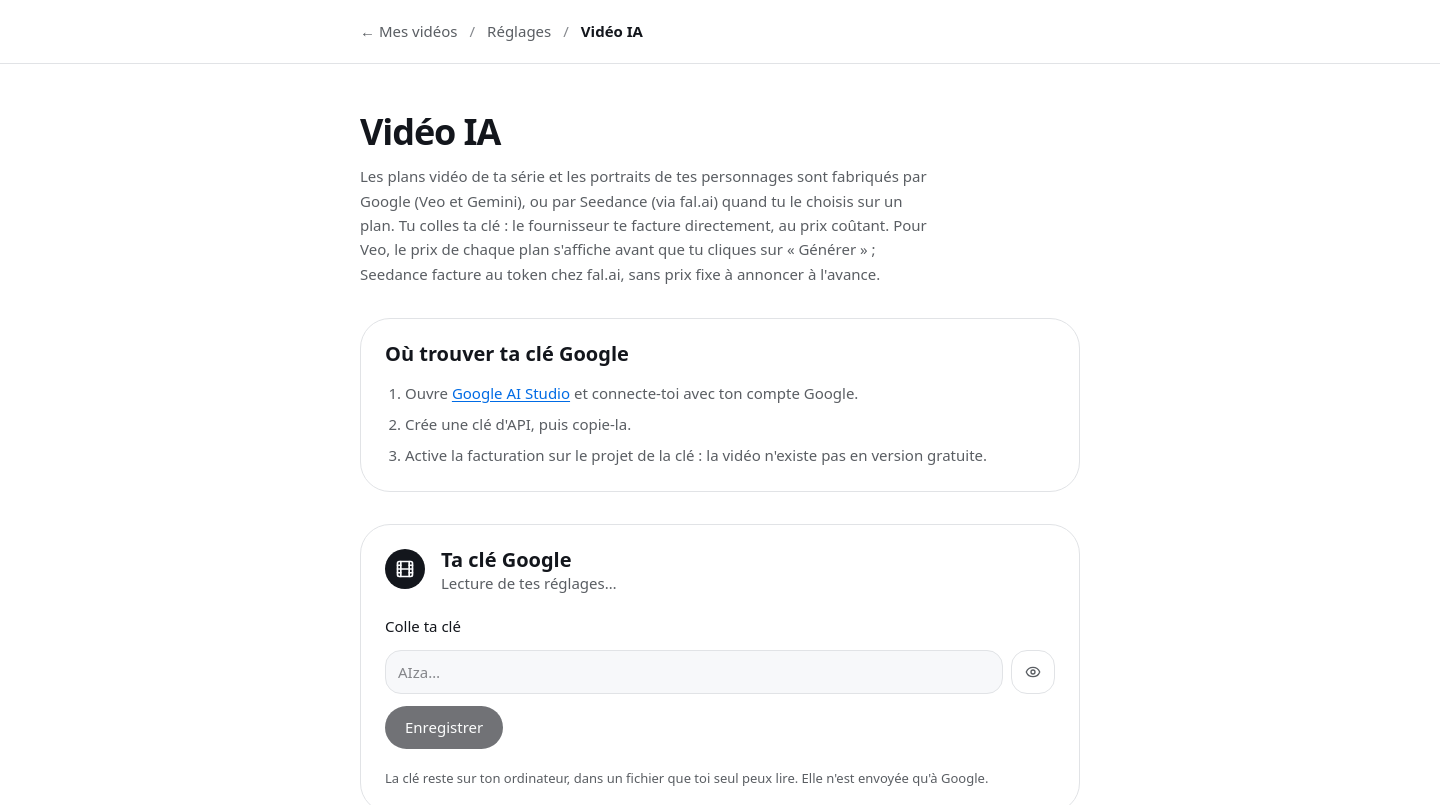
Test: Réglages · Vidéo IA — Google (Veo) › un enregistrement refusé le dit, et garde la clé saisie
The width and height of the screenshot is (1440, 805).
Type "AIza-x" into the password field labelled "Colle ta clé". click: (694, 672)
box: left=385, top=650, right=1003, bottom=694
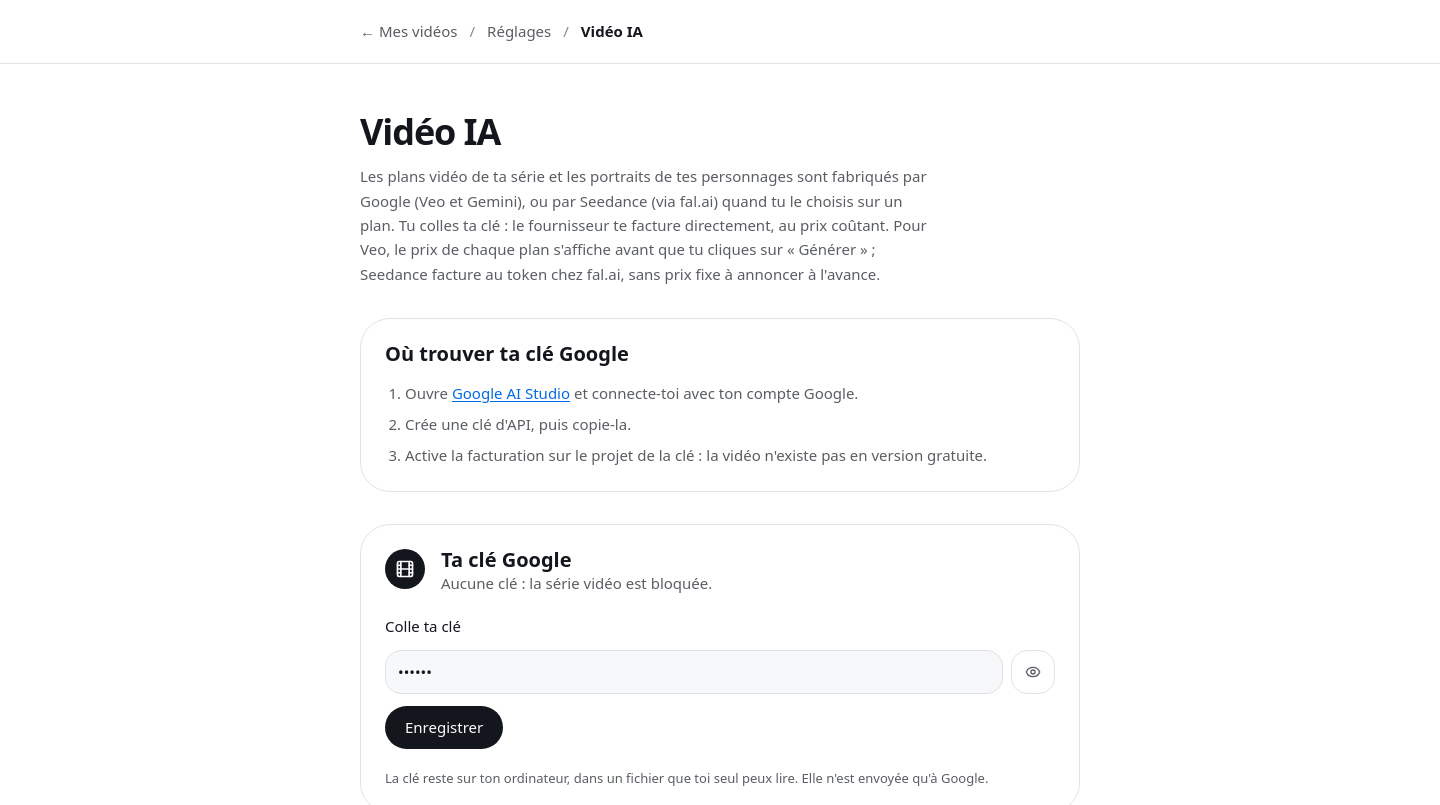
Click the button "Enregistrer". click: (444, 728)
box: left=385, top=706, right=503, bottom=750
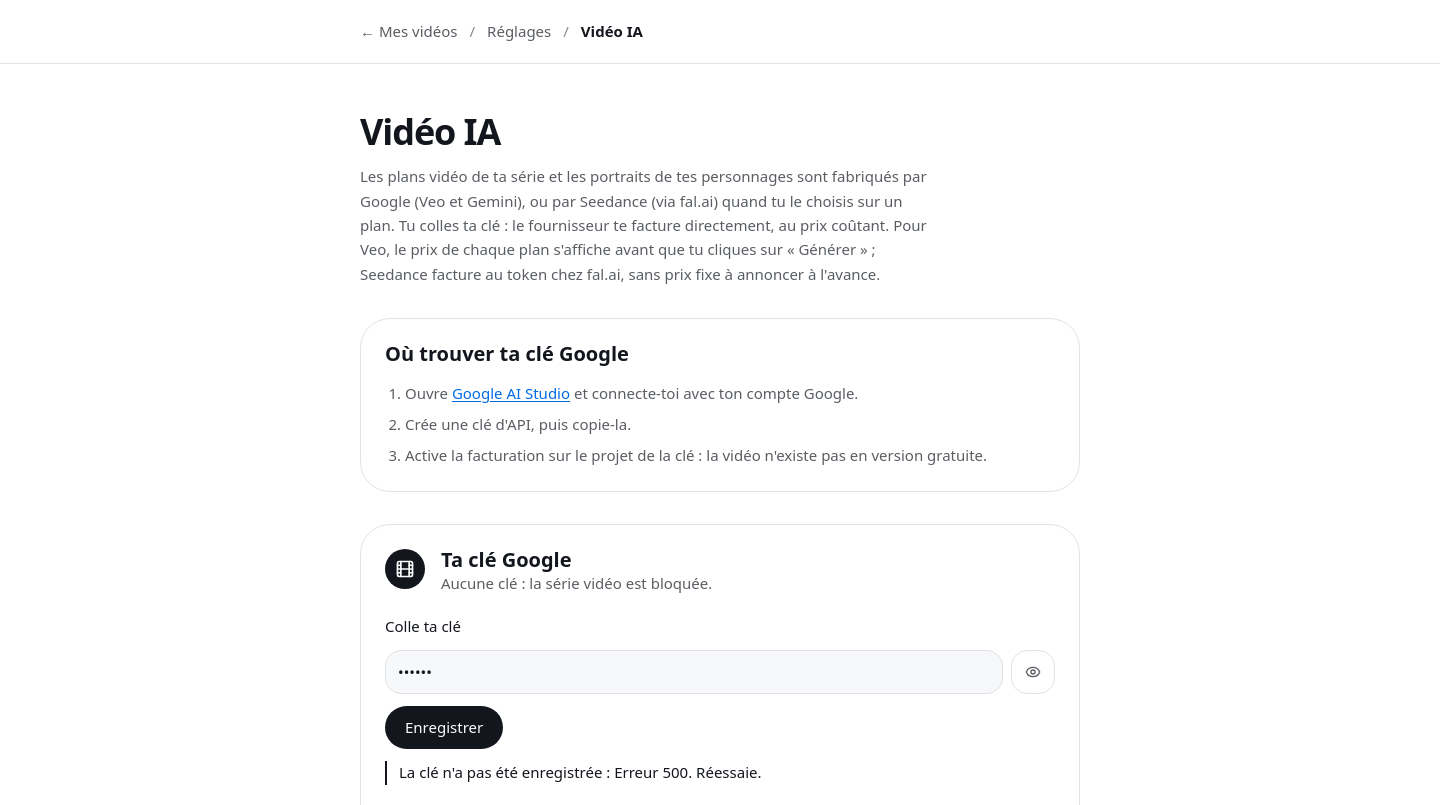
Check: the message "La clé n'a pas été enregistrée : Erreur 500. Réessaie." is shown, box left=385, top=761, right=1055, bottom=785
